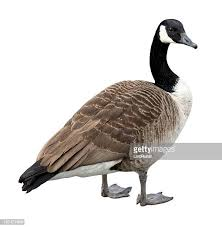goose: (18, 17, 202, 206)
